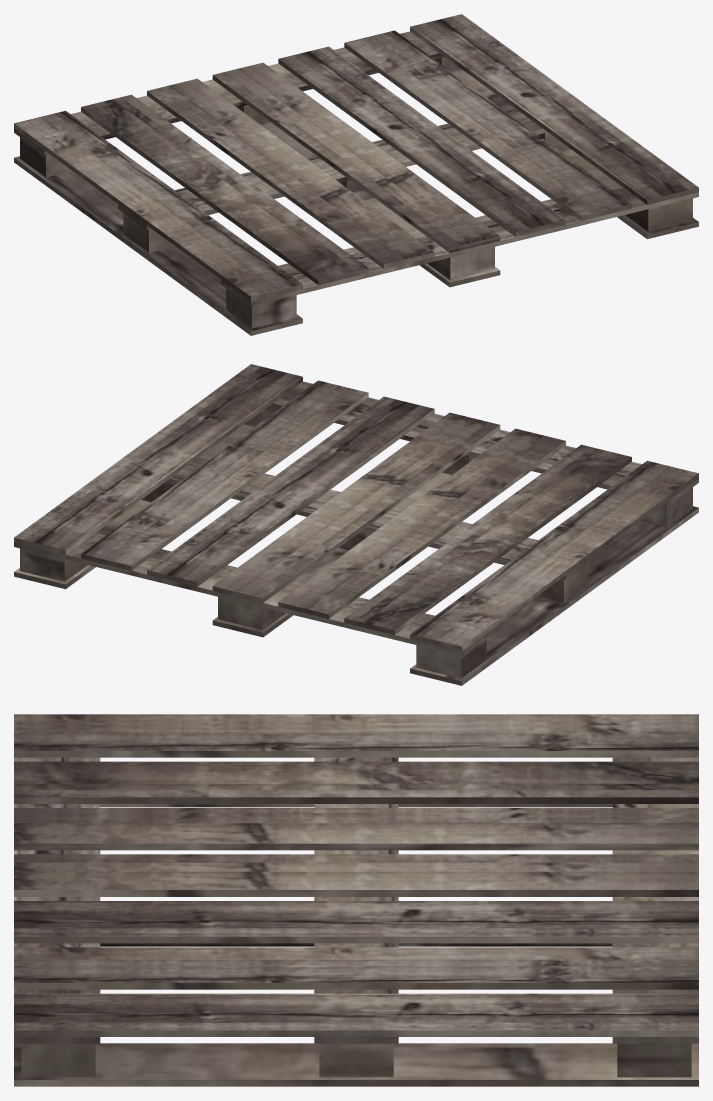
File: woodPallet.gltf
3 renders of one model, top to bottom at view 1: azimuth 30°, elevation 25°; view 2: azimuth 150°, elevation 25°; view 3: azimuth 270°, elevation 25°, orthographic. The views are drawn at different scales.
Parts seen in each view (by area): view 1: woodPallet; view 2: woodPallet; view 3: woodPallet.
Boxes of the visible parts, x1,y1,x2,y2 form: woodPallet: (14,14,698,335); woodPallet: (14,364,698,685); woodPallet: (14,714,698,1086).
Size of the model in its own units: 18 by 1.5 by 16.5.
Materials: 1 (1 with a texture image).
